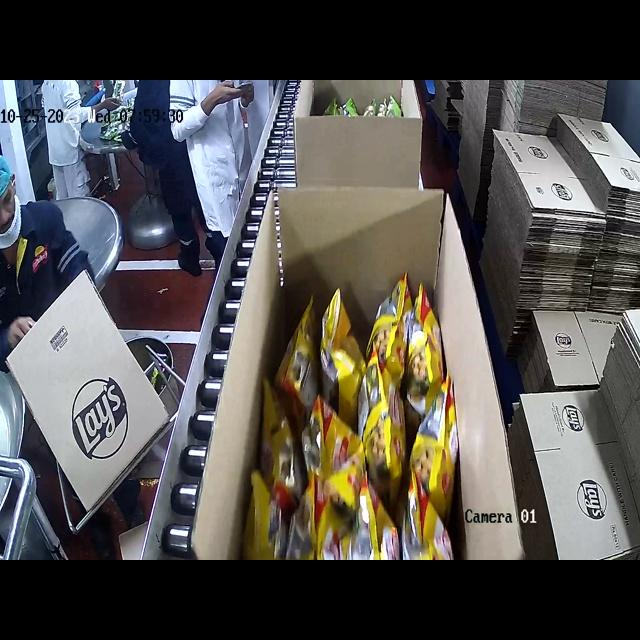salted: (241, 271, 460, 558)
yogurt: (317, 96, 413, 123)
